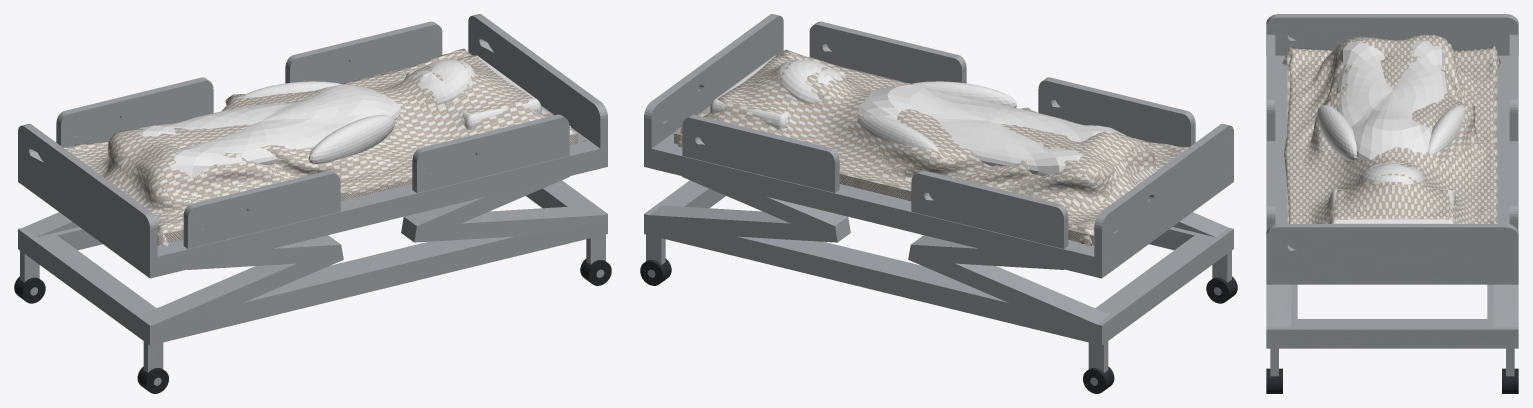
Rendered from HospitalBed.fbx.
3 views of the same model, side by side, from view 1: azimuth 30°, elevation 25°; view 2: azimuth 150°, elevation 25°; view 3: azimuth 270°, elevation 25° (orthographic). The views are drawn at different scales.
Parts seen in each view (by area): view 1: Cube, SurfPatch, Sphere.001, Cube.014, Cube.007, Cube.008, Cube.006, Cube.015, Cube.016, Cube.017, Cube.009, Cylinder.006 (+3 smaller); view 2: Cube, SurfPatch, Sphere.001, Cube.015, Cube.016, Cube.008, Cube.006, Cube.014, Cube.007, Cube.009, Cube.017, Cylinder (+3 smaller); view 3: SurfPatch, Cube, Sphere.001, Cube.006, Cube.008, Cube.014, Cube.015, Cube.017, Cube.009, Cube.007, Cube.016, Cylinder.003 (+3 smaller).
Part boxes in pixels (x1,y1,x2,y2): Cube: (18, 52, 607, 345); SurfPatch: (63, 48, 586, 245); Sphere.001: (135, 59, 474, 178); Cube.014: (183, 170, 340, 248); Cube.007: (412, 114, 569, 192); Cube.008: (18, 124, 157, 258); Cube.006: (468, 14, 607, 148); Cube.015: (56, 77, 213, 146); Cube.016: (285, 21, 442, 83); Cube.017: (405, 55, 541, 129); Cube.009: (106, 68, 577, 245); Cylinder.006: (14, 276, 45, 303); Cube: (644, 53, 1233, 345); SurfPatch: (678, 49, 1189, 245); Sphere.001: (777, 59, 1125, 176); Cube.015: (911, 170, 1068, 248); Cube.016: (682, 114, 839, 192); Cube.008: (1094, 124, 1233, 258); Cube.006: (644, 14, 783, 148); Cube.014: (1038, 77, 1195, 146); Cube.007: (809, 21, 966, 83); Cube.009: (674, 69, 1148, 245); Cube.017: (710, 55, 846, 129); Cylinder: (1206, 276, 1237, 303); SurfPatch: (1282, 34, 1500, 285); Cube: (1266, 55, 1518, 348); Sphere.001: (1317, 40, 1465, 185); Cube.006: (1266, 224, 1518, 265); Cube.008: (1266, 14, 1518, 55); Cube.014: (1267, 34, 1275, 140); Cube.015: (1509, 34, 1517, 140); Cube.017: (1329, 189, 1455, 223); Cube.009: (1287, 51, 1497, 223); Cube.007: (1267, 141, 1275, 229); Cube.016: (1509, 141, 1517, 229); Cylinder.003: (1266, 368, 1282, 393).
Size of the model in its own units: 610 by 243 by 300.
Materials: 3 (3 with a texture image).
